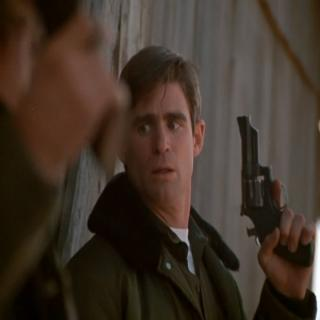gun: (230, 105, 318, 268)
